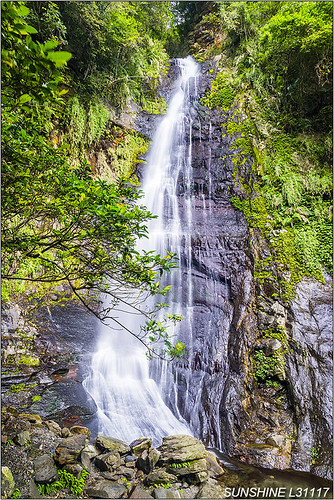wufengciWaterfall: (75, 48, 257, 444)
